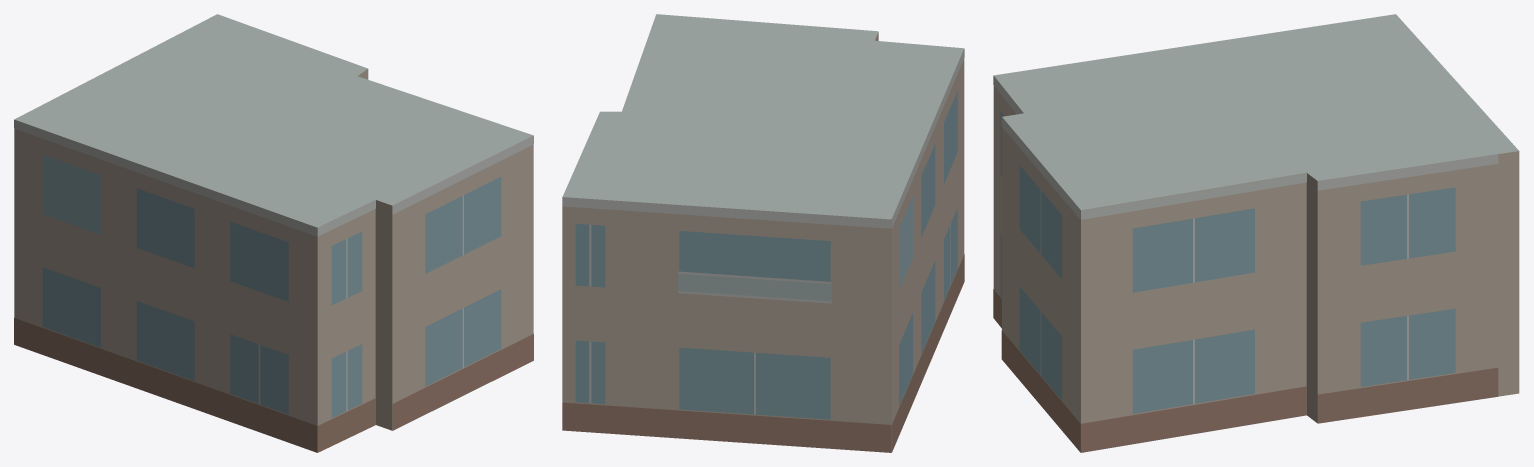
File: survey-upis-32534705.glb
3 renders of one model, left to right at view 1: azimuth 30°, elevation 25°; view 2: azimuth 150°, elevation 25°; view 3: azimuth 270°, elevation 25°, orthographic. The views are drawn at different scales.
Visible parts, largest first — view 1: survey-upis-32534705.tmp; view 2: survey-upis-32534705.tmp; view 3: survey-upis-32534705.tmp.
Part boxes in pixels (bbox=[...]): survey-upis-32534705.tmp: bbox=[14, 14, 533, 452]; survey-upis-32534705.tmp: bbox=[562, 14, 964, 452]; survey-upis-32534705.tmp: bbox=[993, 14, 1519, 452].
Bounding box in the file's own units: 10.6 × 6.1 × 11.99.
